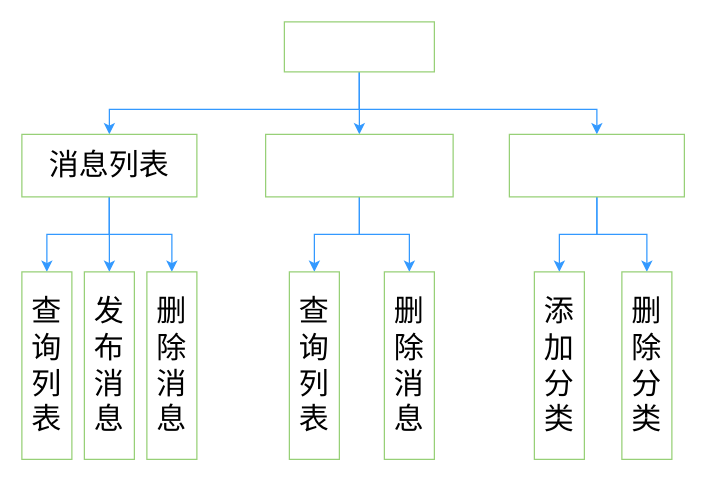
The diagram is 706 pixels wide and 481 high, and some of its shapes have lost their labels. The shapes that lost their labels are listed below. From the top down, each one's box as (x1, y1, x2, y2) in pixels, then its label:
(283, 21, 434, 72): 消息管理
(264, 133, 453, 197): 消息详情
(508, 133, 684, 197): 消息分类
